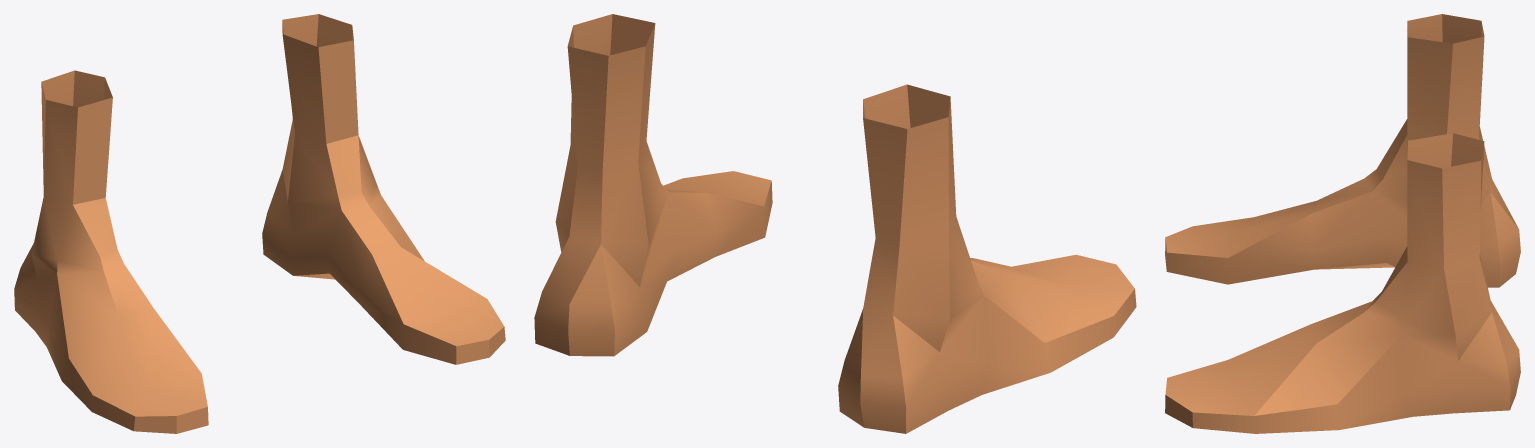
Rendered from NM_Ancle04.fbx.
3 views of the same model, side by side, from view 1: azimuth 30°, elevation 25°; view 2: azimuth 150°, elevation 25°; view 3: azimuth 270°, elevation 25° (orthographic). The views are drawn at different scales.
Parts seen in each view (by area): view 1: Ankle04; view 2: Ankle04; view 3: Ankle04.
Part boxes in pixels (x1,y1,x2,y2): Ankle04: [14, 14, 505, 433]; Ankle04: [534, 14, 1136, 433]; Ankle04: [1165, 14, 1520, 433].
Size of the model in its own units: 46.61 by 27.04 by 35.18.
